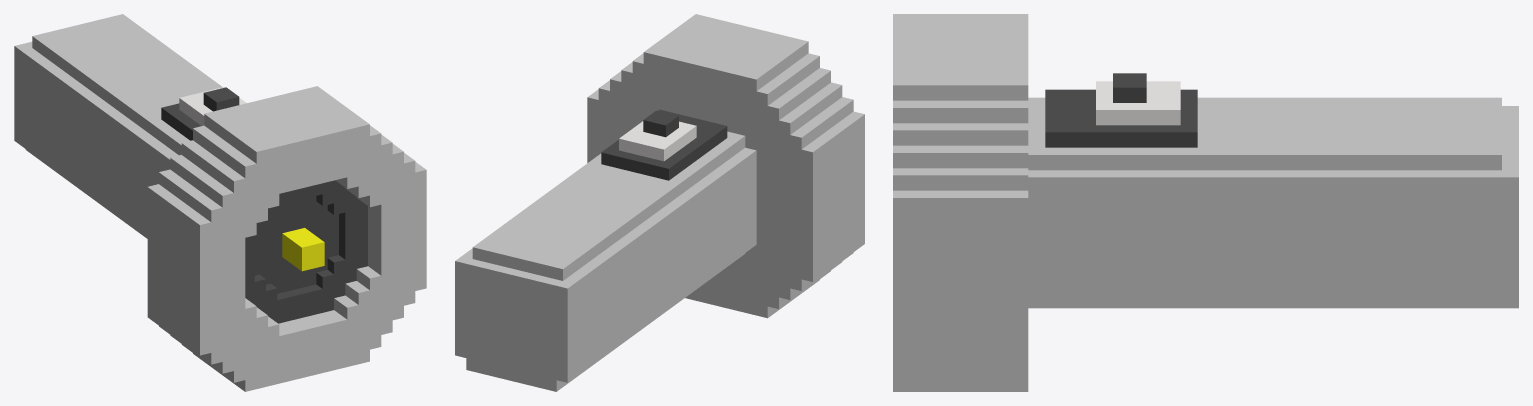
The model's file is Foco.obj.
3 views of the same model, side by side, from view 1: azimuth 30°, elevation 25°; view 2: azimuth 150°, elevation 25°; view 3: azimuth 270°, elevation 25° (orthographic). The views are drawn at different scales.
Size of the model in its own units: 2 by 2 by 3.7.
